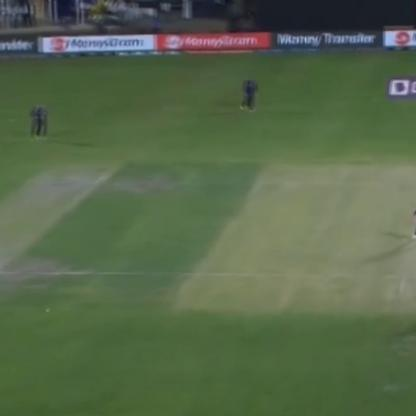ball: (42, 305, 53, 315)
